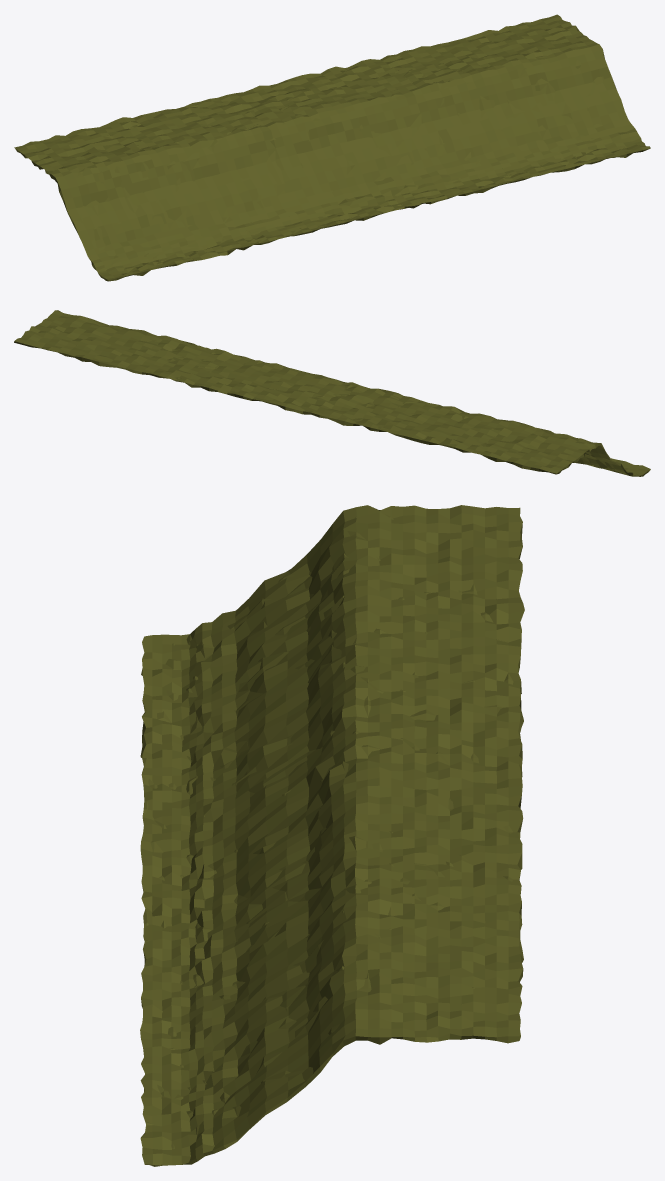
File: fosée.fbx
The picture shows the model from 3 angles, top to bottom: view 1: azimuth 30°, elevation 25°; view 2: azimuth 150°, elevation 25°; view 3: azimuth 270°, elevation 25°; orthographic projection. The views are drawn at different scales.
Parts seen in each view (by area): view 1: Plane; view 2: Plane; view 3: Plane.
Boxes of the visible parts, left/top/right/bottom form: Plane: left=14, top=14, right=650, bottom=281; Plane: left=14, top=310, right=650, bottom=476; Plane: left=140, top=505, right=524, bottom=1166.
Bounding box in the file's own units: 16527 × 2057 × 5049.
